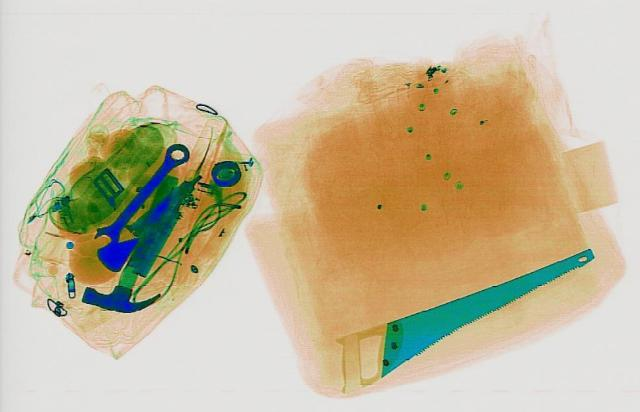Wrench: (84, 140, 196, 250)
